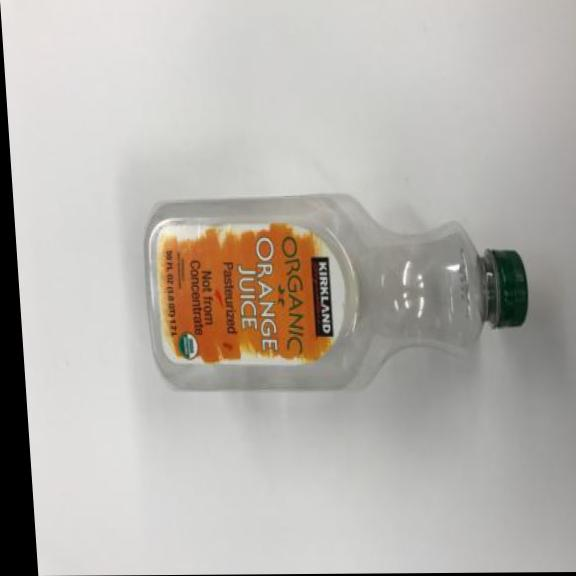Plastik: (140, 186, 537, 395)
